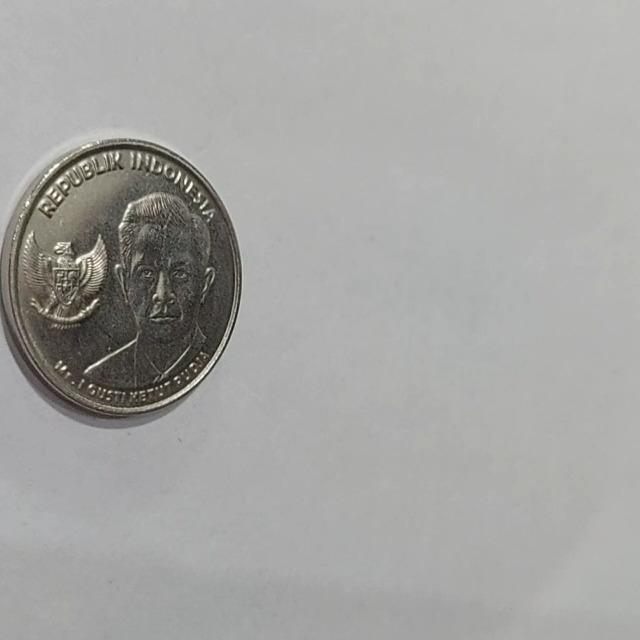Rp100: (0, 136, 243, 420), (78, 190, 218, 389)
